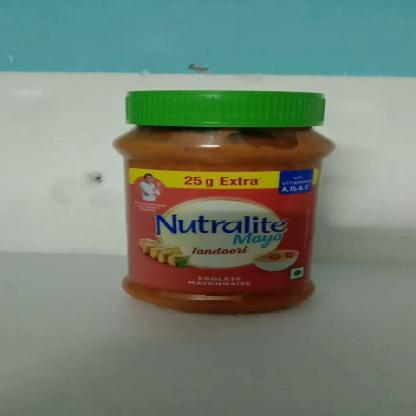Nutralite TANDOORI MAYO 300g-275g-25g-: (112, 89, 334, 312)
